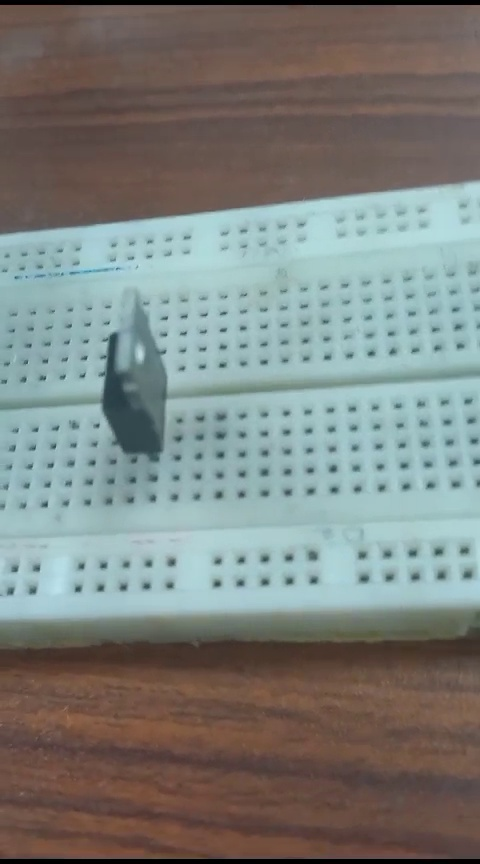voltage regulator: (81, 289, 172, 477)
